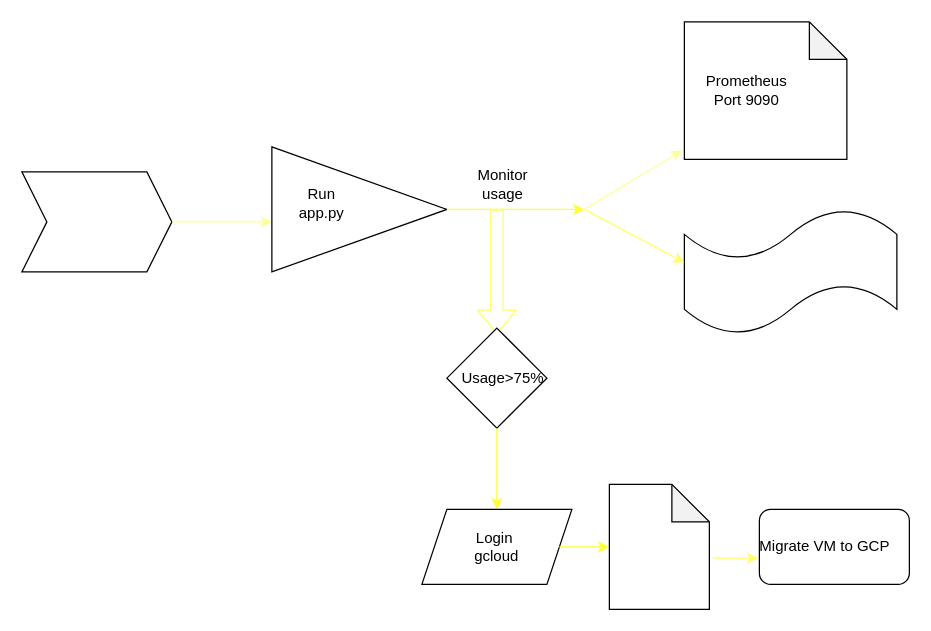
The diagram is 931 pixels wide and 631 high, and some of its shapes have lost their labels. Here are the shapes that lost their labels. From the top down, the box of each, then its label:
(21, 171, 172, 272): Start VM
(683, 208, 897, 334): Grafana-Port 3030
(608, 483, 709, 609): monitor.py
